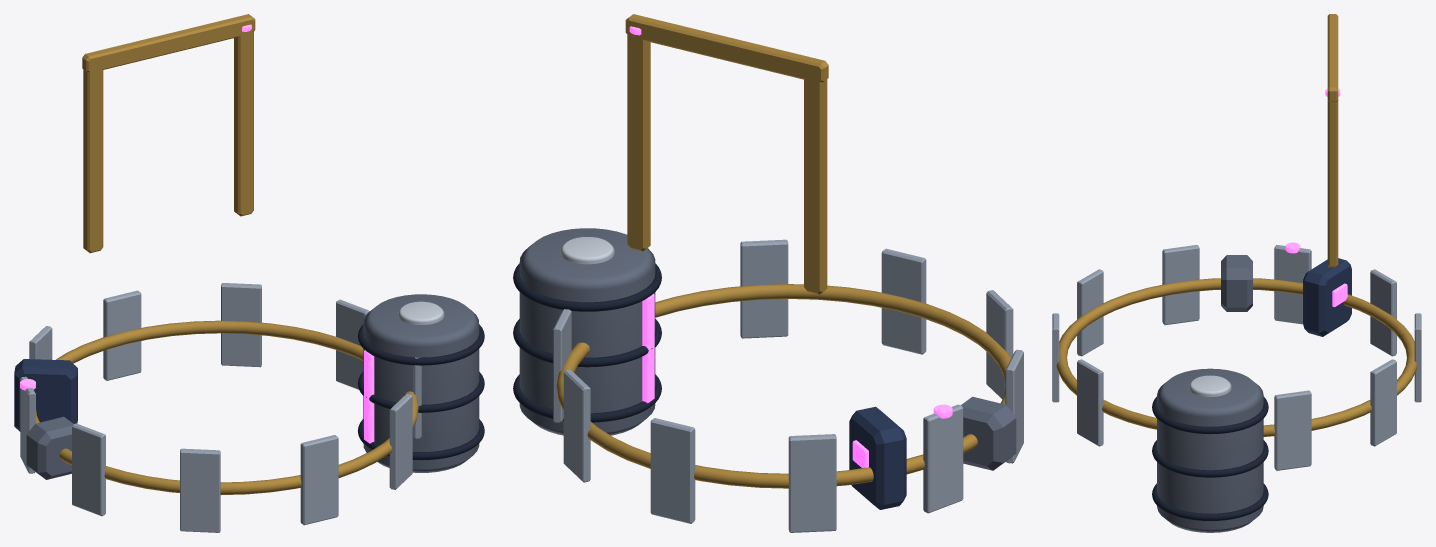
The model's file is tower_arc_rate_s6.glb.
3 views of the same model, side by side, from view 1: azimuth 30°, elevation 25°; view 2: azimuth 150°, elevation 25°; view 3: azimuth 270°, elevation 25° (orthographic). The views are drawn at different scales.
Parts seen in each view (by area): view 1: arc_supercap, arc_coolant_loop, arc_bus_bar_r, arc_bus_bar_l, arc_bus_bridge, arc_base_fin8, arc_meter_box, arc_base_fin7, arc_base_fin3, arc_base_fin9, arc_base_fin2, arc_coolant_pump (+9 smaller); view 2: arc_supercap, arc_coolant_loop, arc_bus_bar_r, arc_bus_bar_l, arc_bus_bridge, arc_base_fin1, arc_base_fin2, arc_meter_box, arc_base_fin6, arc_base_fin0, arc_base_fin7, arc_coolant_pump (+9 smaller); view 3: arc_supercap, arc_coolant_loop, arc_base_fin4, arc_meter_box, arc_base_fin9, arc_base_fin3, arc_base_fin6, arc_base_fin0, arc_bus_bar_l, arc_coolant_pump, arc_base_fin1, arc_base_fin8 (+7 smaller).
Boxes of the visible parts, <box> form: arc_supercap: <box>363,294,479,472</box>; arc_coolant_loop: <box>36,320,418,494</box>; arc_bus_bar_r: <box>83,66,103,253</box>; arc_bus_bar_l: <box>234,29,253,216</box>; arc_bus_bridge: <box>82,14,255,72</box>; arc_base_fin8: <box>180,448,220,532</box>; arc_meter_box: <box>14,359,77,431</box>; arc_base_fin7: <box>300,435,338,525</box>; arc_base_fin3: <box>221,283,261,367</box>; arc_base_fin9: <box>72,423,105,516</box>; arc_base_fin2: <box>103,290,141,380</box>; arc_coolant_pump: <box>26,416,73,479</box>; arc_supercap: <box>519,228,655,435</box>; arc_coolant_loop: <box>556,284,1011,488</box>; arc_bus_bar_r: <box>804,75,827,294</box>; arc_bus_bar_l: <box>627,32,650,251</box>; arc_bus_bridge: <box>625,14,828,82</box>; arc_base_fin1: <box>788,434,836,532</box>; arc_base_fin2: <box>650,418,695,523</box>; arc_meter_box: <box>849,406,906,509</box>; arc_base_fin6: <box>740,239,788,338</box>; arc_base_fin0: <box>923,404,963,513</box>; arc_base_fin7: <box>881,248,926,354</box>; arc_coolant_pump: <box>961,396,1016,470</box>; arc_supercap: <box>1157,368,1263,532</box>; arc_coolant_loop: <box>1056,278,1417,436</box>; arc_base_fin4: <box>1274,390,1311,470</box>; arc_meter_box: <box>1303,258,1351,336</box>; arc_base_fin9: <box>1162,245,1199,325</box>; arc_base_fin3: <box>1370,359,1396,446</box>; arc_base_fin6: <box>1077,359,1103,446</box>; arc_base_fin0: <box>1274,245,1311,324</box>; arc_bus_bar_l: <box>1327,101,1338,267</box>; arc_coolant_pump: <box>1221,255,1252,311</box>; arc_base_fin1: <box>1370,269,1396,356</box>; arc_base_fin8: <box>1077,269,1103,356</box>.
Bounding box in the file's own units: 1.71 × 1.59 × 1.39.
